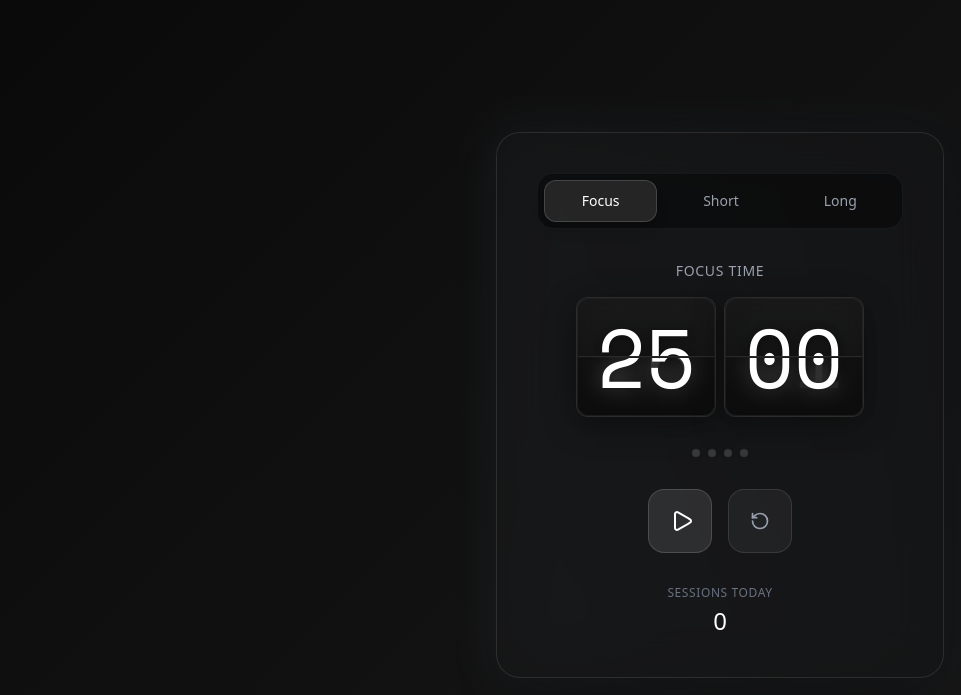
it: Feature: Pomodoro Timer › Scenario: Resetting the timer › Given a timer is running or paused, When the user resets the timer, Then the timer should return to initial state and any progress should be discarded
# Given: Timer is running
What coordinates should you click on to do the following:
click the button named "play"
I would click on:
 (680, 521)
Its box is x1=648 y1=489 x2=712 y2=553.
Wait 10000 ms
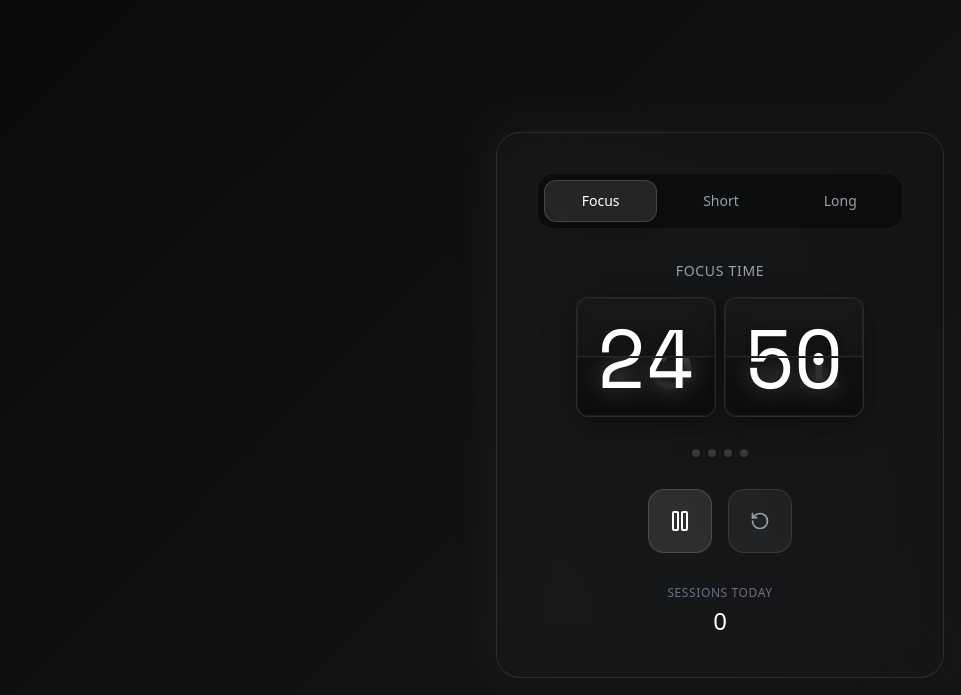
Check: the element named "minutes: 24" is shown, box x1=576 y1=297 x2=716 y2=417
# User resets the timer
What coordinates should you click on to do the following:
click the button named "reset"
I would click on:
 (760, 521)
Its box is x1=728 y1=489 x2=792 y2=553.
Wait 5000 ms
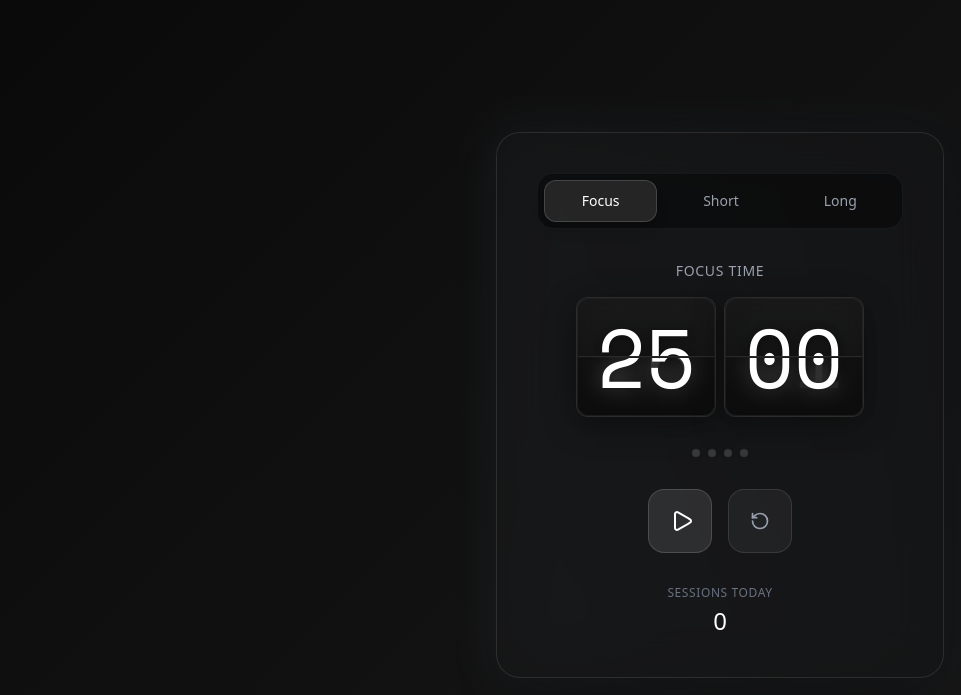
Check: the element named "minutes: 25" is shown, box x1=576 y1=297 x2=716 y2=417
Check: the element named "seconds: 00" is shown, box x1=724 y1=297 x2=864 y2=417
